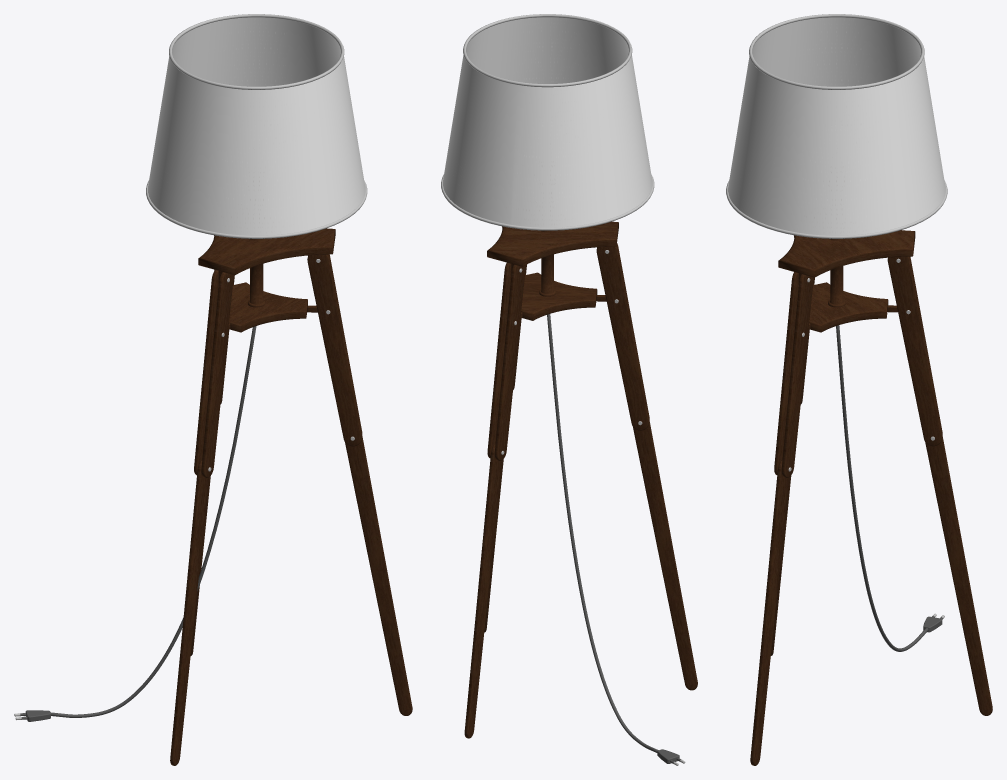
3 views of the same model, side by side, from view 1: azimuth 30°, elevation 25°; view 2: azimuth 150°, elevation 25°; view 3: azimuth 270°, elevation 25° (orthographic). The views are drawn at different scales.
Size of the model in its own units: 801 by 1657 by 605.
5 materials, 2 textured.
